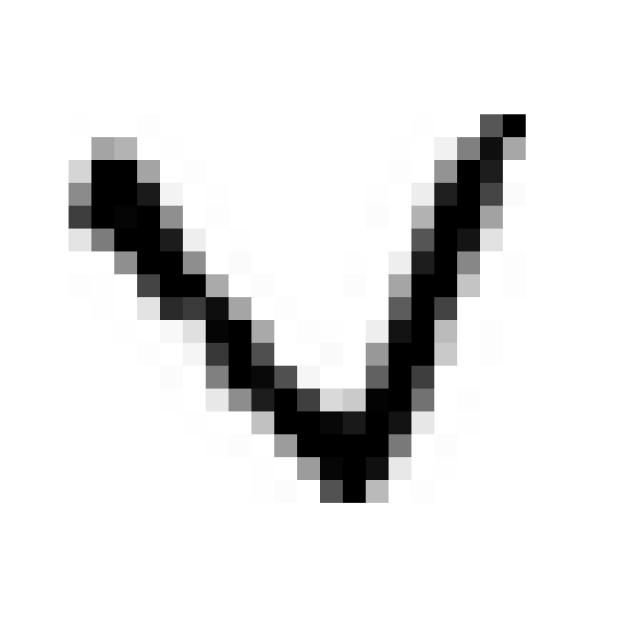7 -seven-: (55, 89, 545, 519)
